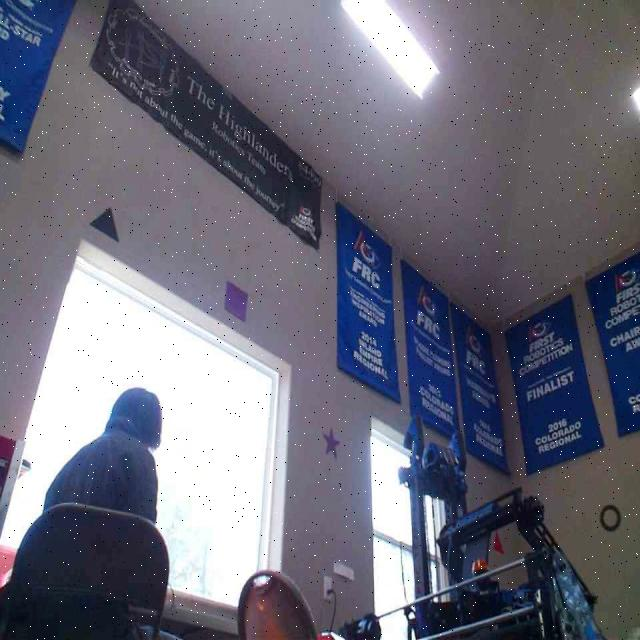ring_black: (599, 503, 620, 529)
square_purple: (224, 280, 248, 320)
star_purple: (322, 425, 339, 456)
triangle_black: (89, 205, 118, 242)
triangle_red: (492, 531, 503, 552)
